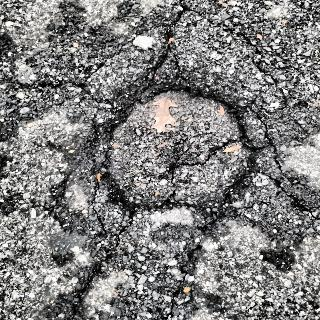crack: (63, 207, 140, 320), (169, 209, 219, 320), (265, 170, 320, 220)
pothole: (98, 82, 259, 216)
